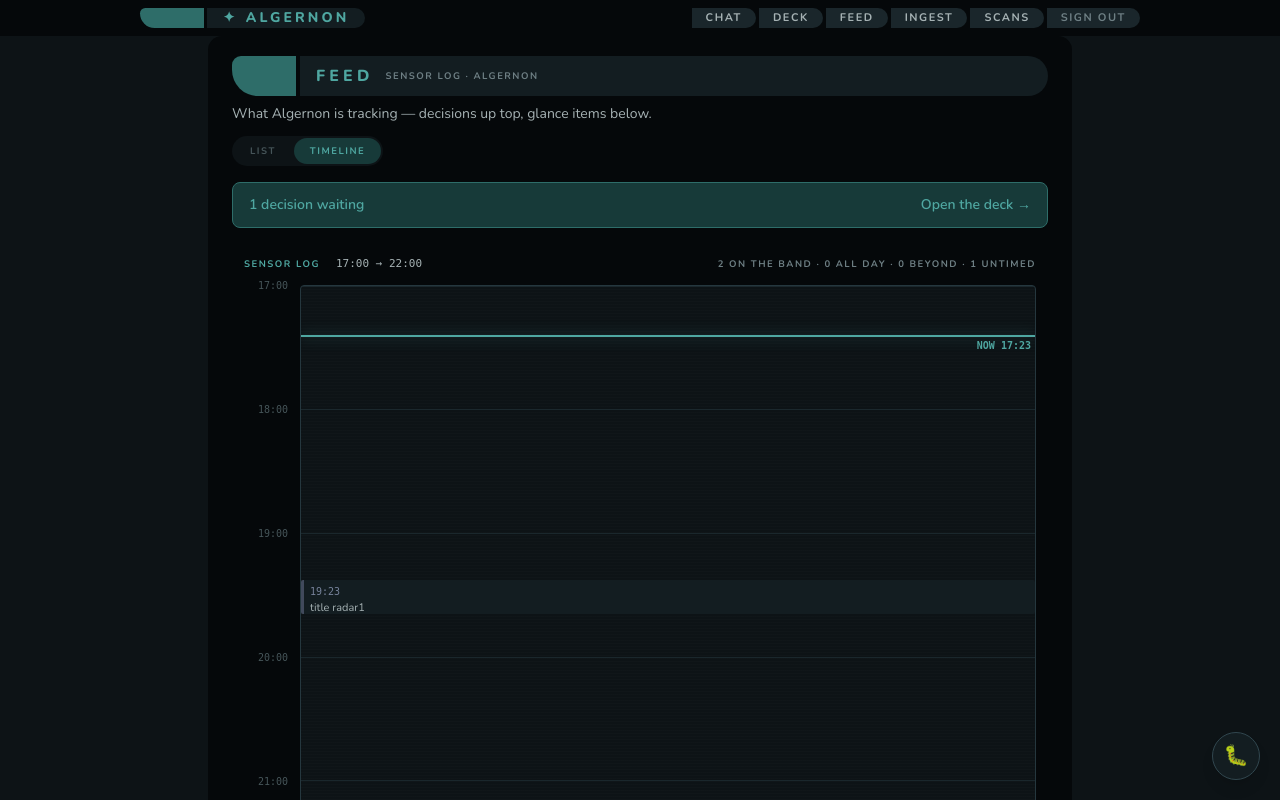
FeedPage — the timeline is wired to the page, not just wire-able › THREADS renderDetail: a trace expands the real FeedRow with its real verbs
Click the button with test id "timeline-trace" at (325,592), box [301,580,1035,614]
(page scrolled)
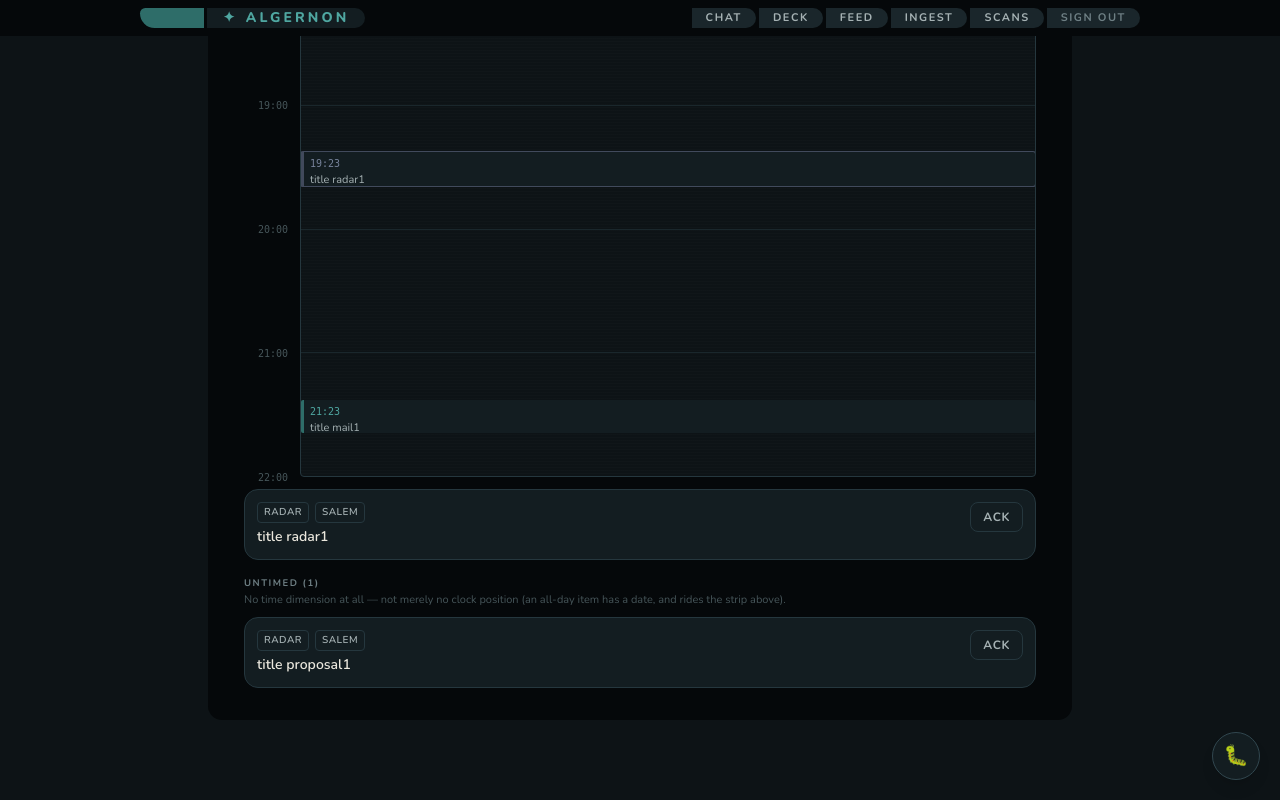
Expected: the list item with test id "feed-row" showing "Radar salem title radar1 Ack" is shown, [244,489,1036,560]
Expected: the 1st button with test id "feed-row-ack" is shown, [970,502,1023,532]
